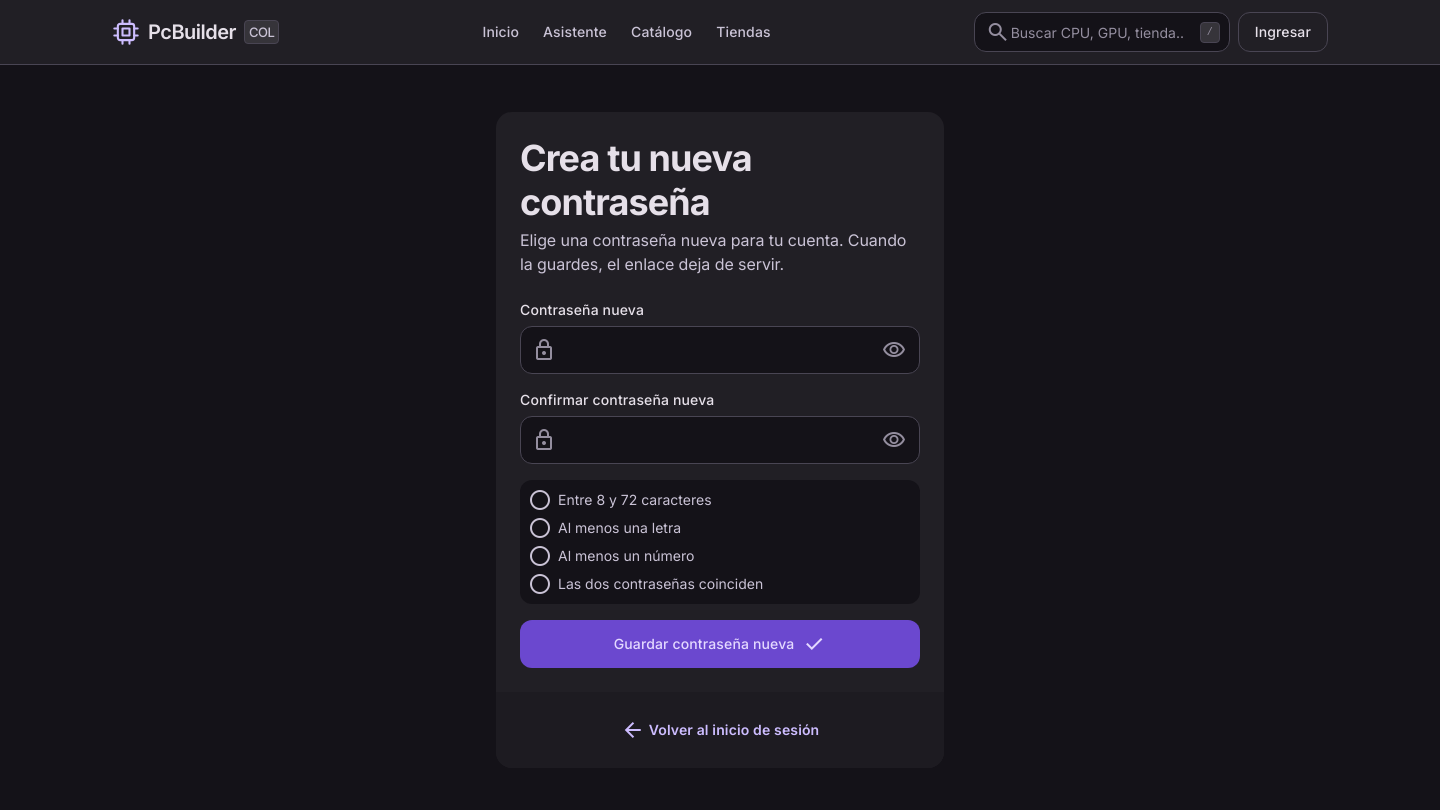
Test case: Restablecer contraseña: formulario › avisa cuando las dos contraseñas no coinciden
expect the heading "Crea tu nueva contraseña" is shown: met, box 520,136 -> 752,224
Type "Clave12345" into the password field labelled "Contraseña nueva" at coordinates (720, 350), box 520,326 -> 920,374
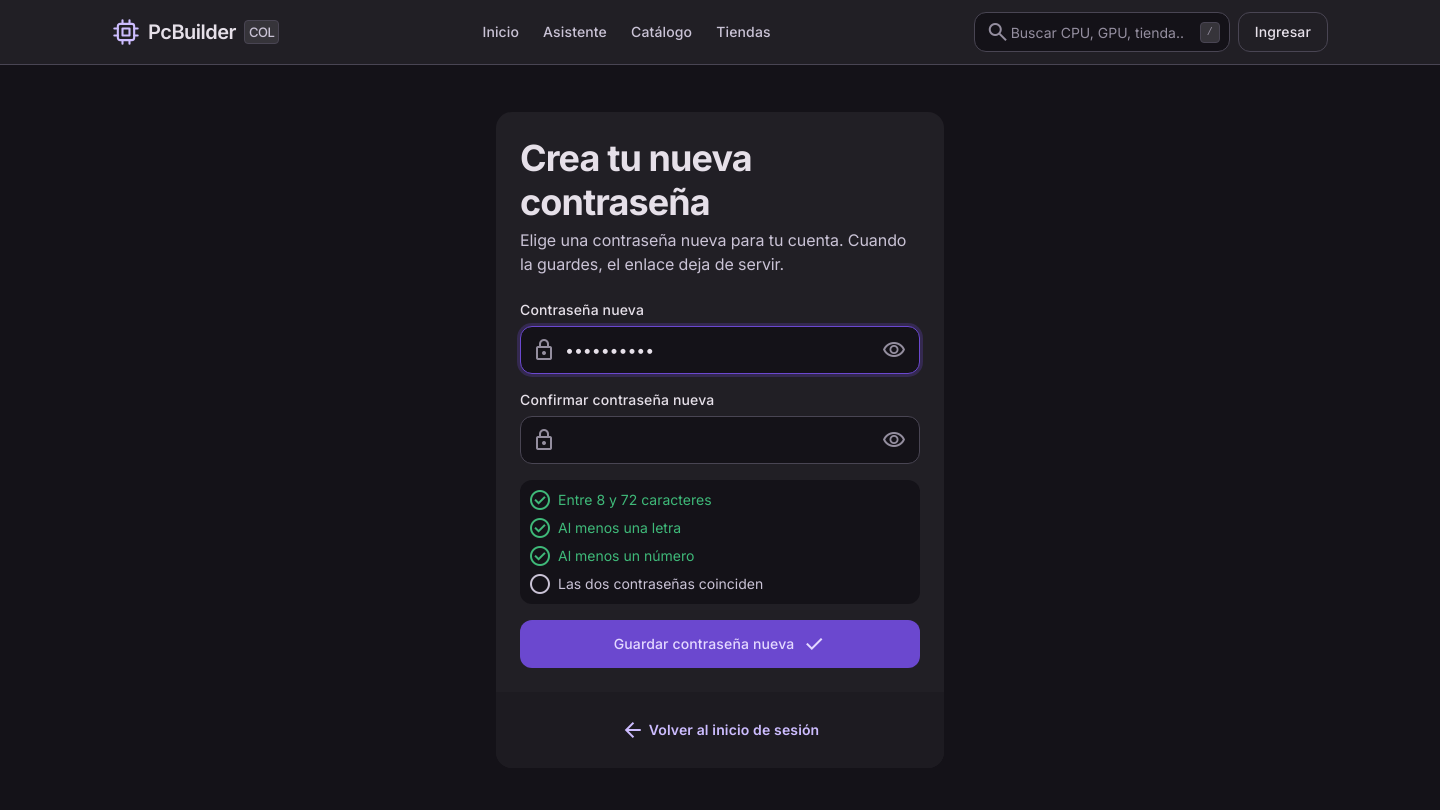
Type "Clave54321" into the password field labelled "Confirmar contraseña nueva" at coordinates (720, 440), box 520,416 -> 920,464
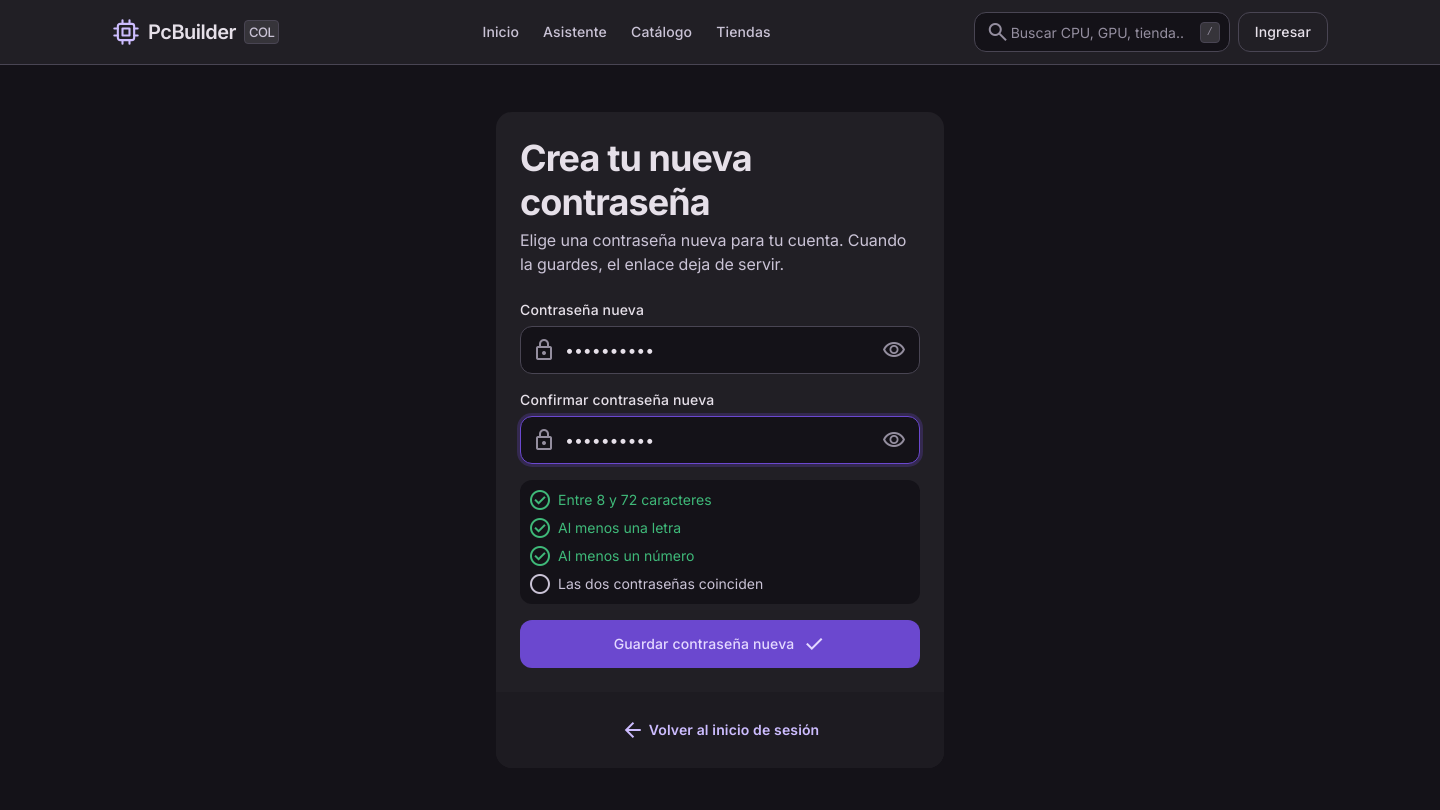
Click the button "Guardar contraseña nueva" at coordinates (720, 644), box 520,620 -> 920,668
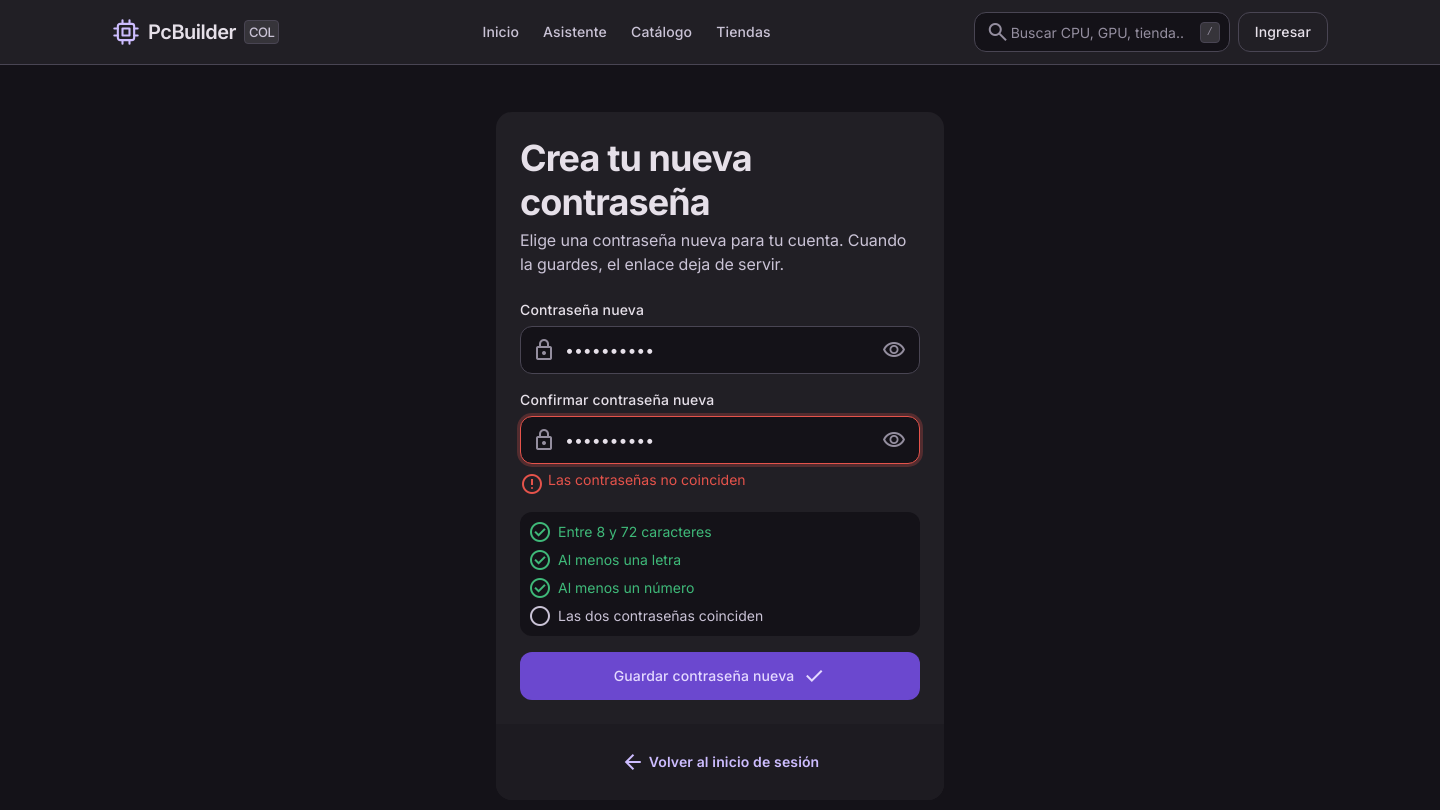
expect the text "Las contraseñas no coinciden" is shown: met, box 548,470 -> 746,490
